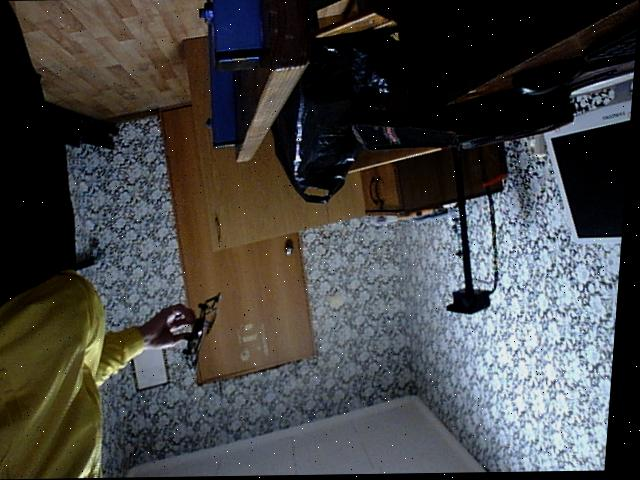drone: (184, 283, 227, 376)
